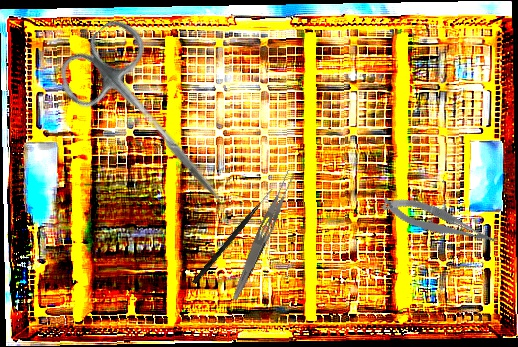Dressing Forceps: (229, 168, 299, 303)
Hook Surgical: (192, 186, 274, 286)
Iris Scissors: (48, 11, 257, 229)
Micro Scissor: (378, 185, 502, 261)
